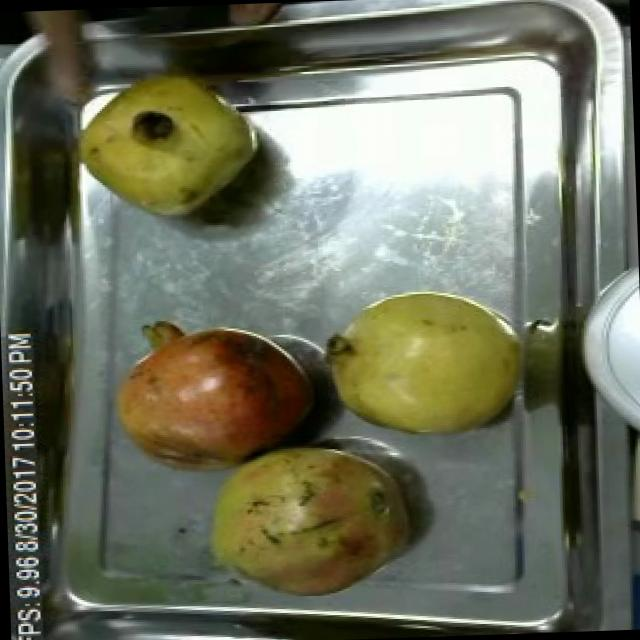fruit: (96, 296, 328, 486), (190, 430, 432, 610), (313, 278, 543, 448), (68, 64, 267, 225)
